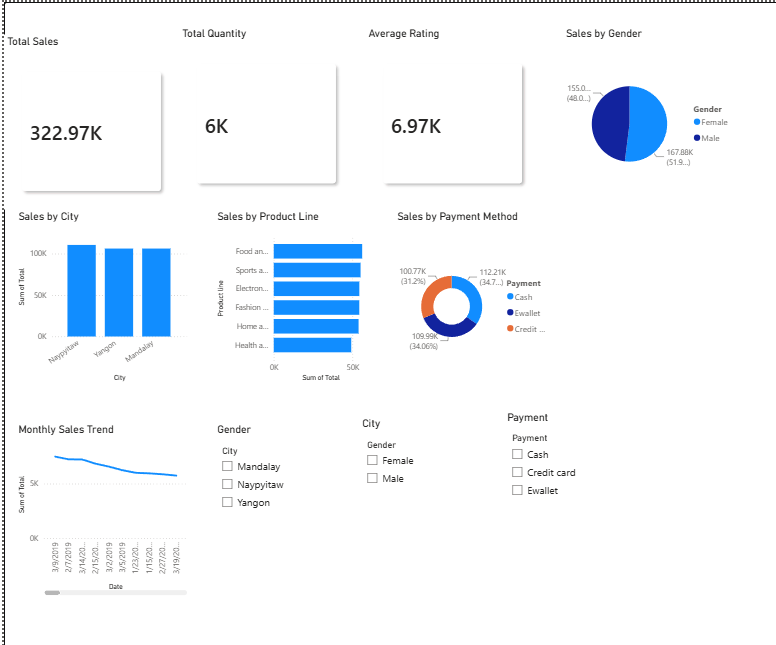

What the dashboard file says about the page in this screenshot:
{"tool":"powerbi","page":{"name":"Page 1","canvas":[1600,1200],"ordinal":0},"visuals":[{"type":"cardVisual","title":"Total Sales","fields":{"Data":["Sum(supermarket_Sales.Total)"]},"box":[0,52.1,280,280],"z":0},{"type":"clusteredColumnChart","title":"Sales by City","fields":{"Category":["supermarket_Sales.City"],"Y":["Sum(supermarket_Sales.Total)"]},"box":[17.8,332.1,280,280],"z":1000},{"type":"cardVisual","title":"Total Quantity","fields":{"Data":["Sum(supermarket_Sales.Quantity)"]},"box":[279.9,39.8,280,280],"z":1001},{"type":"cardVisual","title":"Average Rating","fields":{"Data":["Sum(supermarket_Sales.Customer stratification rating)"]},"box":[577.7,39.8,280,280],"z":1002},{"type":"clusteredBarChart","title":"Sales by Product Line","fields":{"Category":["supermarket_Sales.Product line"],"Y":["Sum(supermarket_Sales.Total)"]},"box":[336.2,332.1,262,280],"z":1003},{"type":"pieChart","title":"Sales by Gender","fields":{"Category":["supermarket_Sales.Gender"],"Y":["Sum(supermarket_Sales.Total)"]},"box":[894.8,40.4,280,280],"z":1004},{"type":"donutChart","title":"Sales by Payment Method","fields":{"Y":["Sum(supermarket_Sales.Total)"],"Category":["supermarket_Sales.Payment"]},"box":[624,331.5,260,280],"z":1005},{"type":"lineChart","title":"Monthly Sales Trend","fields":{"Category":["supermarket_Sales.Date"],"Y":["Sum(supermarket_Sales.Total)"]},"box":[18,674,280,280],"z":1006},{"type":"slicer","title":"Gender","fields":{"Values":["supermarket_Sales.City"]},"box":[336,674,300,300],"z":1007},{"type":"slicer","title":"City","fields":{"Values":["supermarket_Sales.Gender"]},"box":[568,664,300,300],"z":1008},{"type":"slicer","title":"Payment","fields":{"Values":["supermarket_Sales.Payment"]},"box":[800,654,300,300],"z":1009}]}

Visuals, with their boxes on the page's 1600x1200 design canvas (x1, y1, x2, y2). These are canvas units, not pixel positions in the 776x645 screenshot, which may show the page scaled, cropped or inside an application window:
"Total Sales" cardVisual: {"x1": 0, "y1": 52, "x2": 280, "y2": 332}
"Sales by City" clusteredColumnChart: {"x1": 18, "y1": 332, "x2": 298, "y2": 612}
"Total Quantity" cardVisual: {"x1": 280, "y1": 40, "x2": 560, "y2": 320}
"Average Rating" cardVisual: {"x1": 578, "y1": 40, "x2": 858, "y2": 320}
"Sales by Product Line" clusteredBarChart: {"x1": 336, "y1": 332, "x2": 598, "y2": 612}
"Sales by Gender" pieChart: {"x1": 895, "y1": 40, "x2": 1175, "y2": 320}
"Sales by Payment Method" donutChart: {"x1": 624, "y1": 332, "x2": 884, "y2": 612}
"Monthly Sales Trend" lineChart: {"x1": 18, "y1": 674, "x2": 298, "y2": 954}
"Gender" slicer: {"x1": 336, "y1": 674, "x2": 636, "y2": 974}
"City" slicer: {"x1": 568, "y1": 664, "x2": 868, "y2": 964}
"Payment" slicer: {"x1": 800, "y1": 654, "x2": 1100, "y2": 954}
